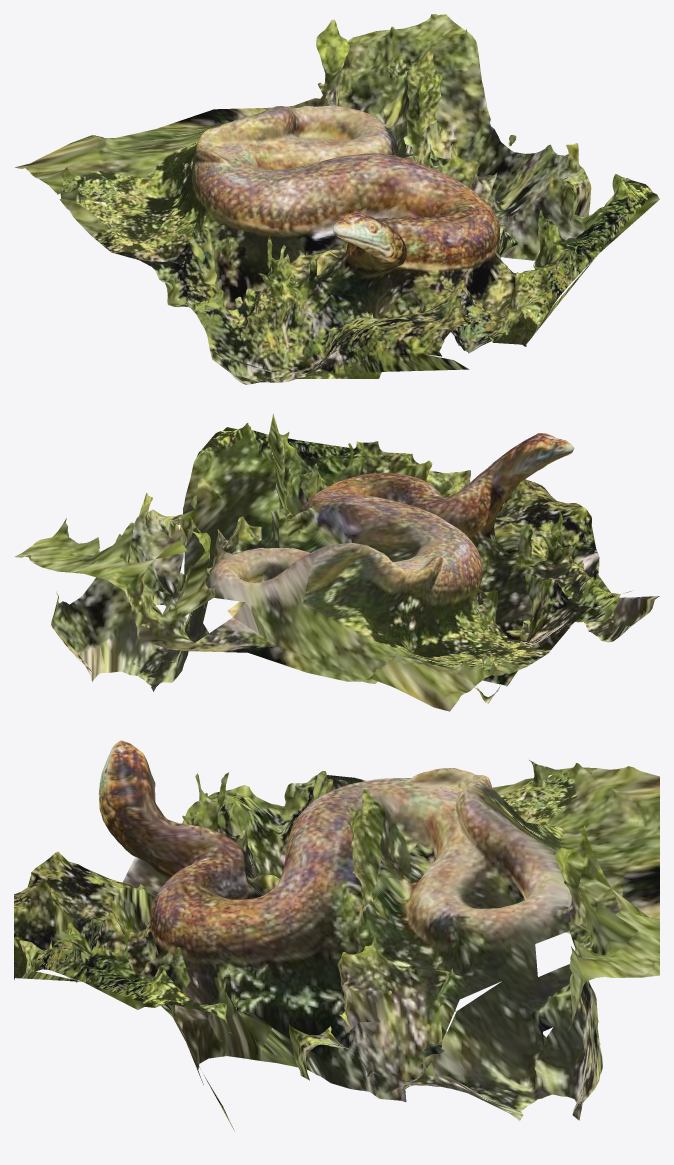
File: cobra.glb
The picture shows the model from 3 angles, top to bottom: view 1: azimuth 30°, elevation 25°; view 2: azimuth 150°, elevation 25°; view 3: azimuth 270°, elevation 25°; orthographic projection. The views are drawn at different scales.
Visible parts, largest first — view 1: Object_5; view 2: Object_5; view 3: Object_5.
Part boxes in pixels (<box>): Object_5: <box>15,14,659,384</box>; Object_5: <box>14,413,659,711</box>; Object_5: <box>14,740,659,1130</box>.
Bounding box in the file's own units: 0.7748 × 0.3948 × 0.8221.
Materials: 1 (1 with a texture image).
